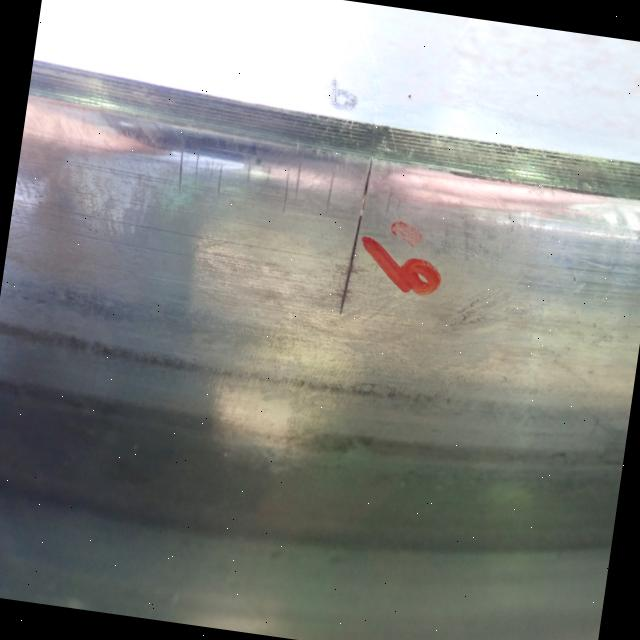Brake_Thermal_Cracks: (330, 158, 387, 331), (280, 145, 310, 222), (321, 154, 345, 228), (172, 143, 195, 201), (211, 152, 234, 208), (238, 147, 261, 202)
